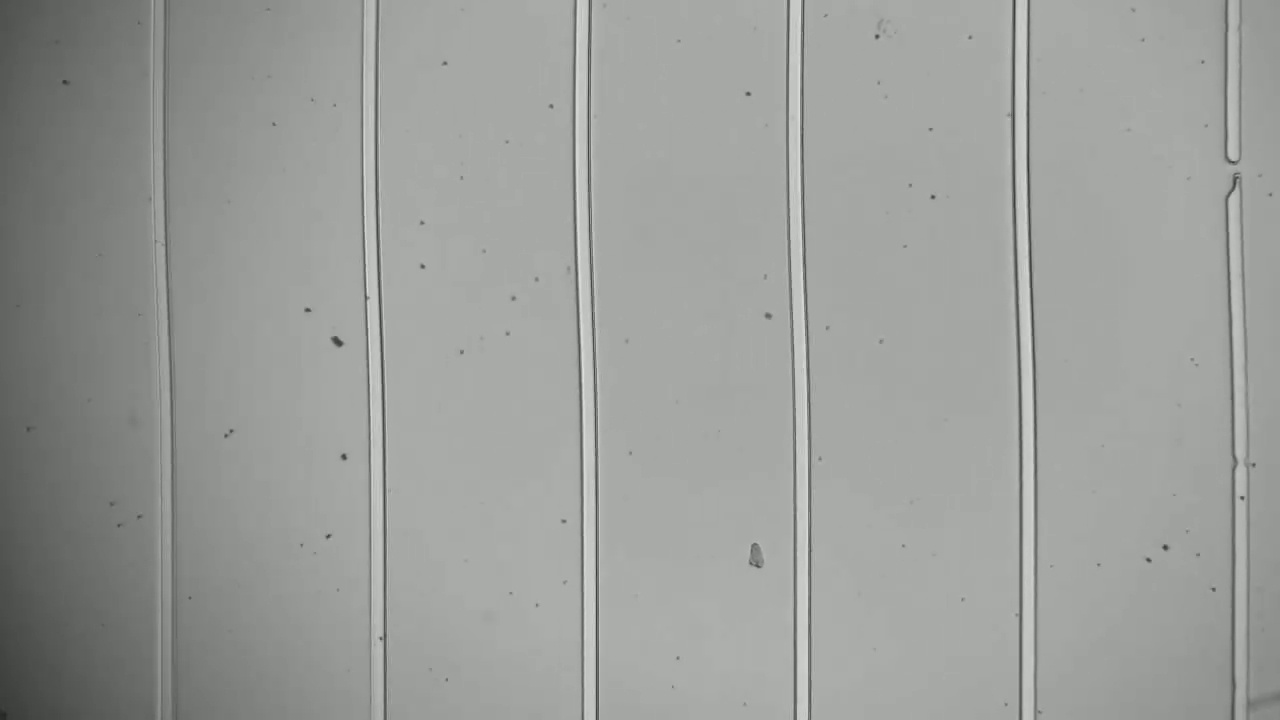edge_bite: (1224, 450, 1258, 479)
open: (1212, 144, 1250, 209)
